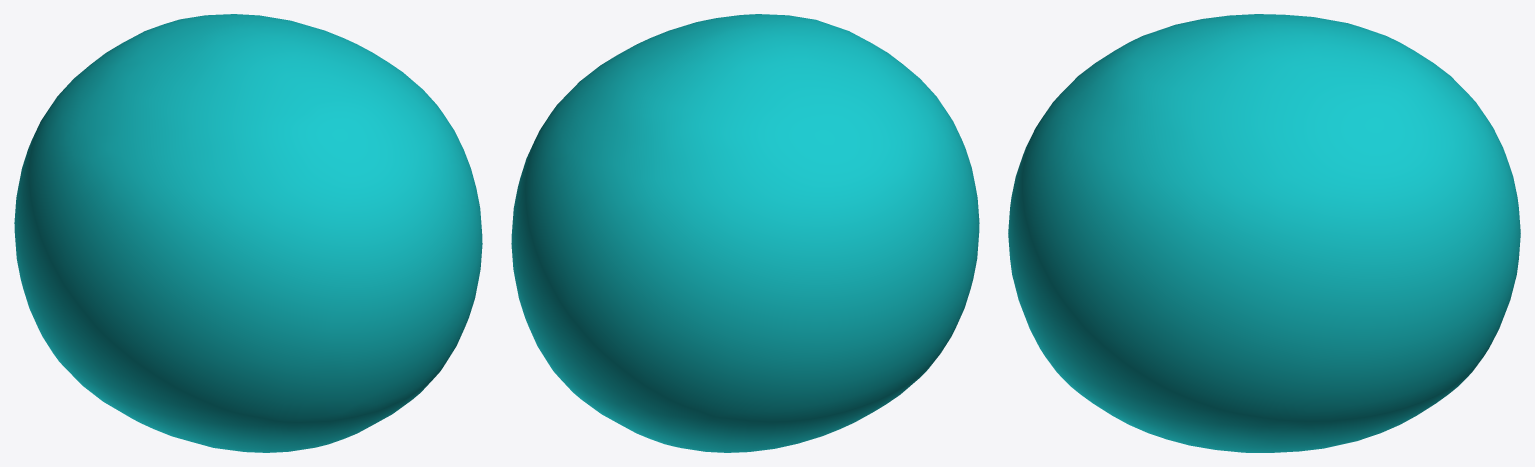
Rendered from SnakeBody_blue.fbx.
3 views of the same model, side by side, from view 1: azimuth 30°, elevation 25°; view 2: azimuth 150°, elevation 25°; view 3: azimuth 270°, elevation 25° (orthographic). The views are drawn at different scales.
Parts seen in each view (by area): view 1: BodyPart.054; view 2: BodyPart.054; view 3: BodyPart.054.
Part boxes in pixels (left/top/right/bottom): BodyPart.054: left=14, top=14, right=482, bottom=452; BodyPart.054: left=511, top=14, right=979, bottom=452; BodyPart.054: left=1008, top=14, right=1520, bottom=452.
Size of the model in its own units: 187 by 172 by 202.
